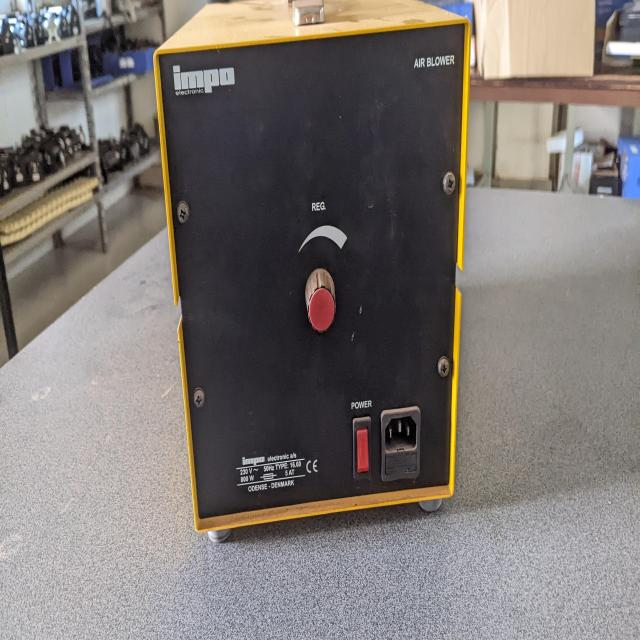Vacuum Pump: (144, 0, 489, 546)
